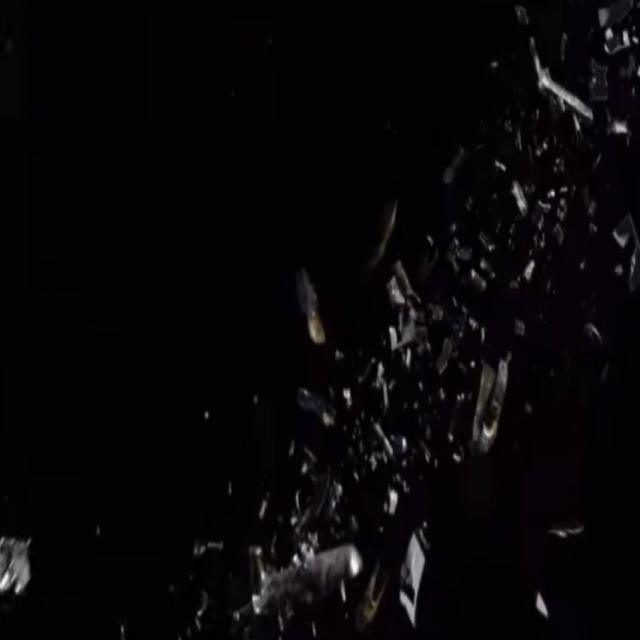large_debris: (246, 528, 364, 636), (510, 4, 598, 142), (379, 258, 447, 373), (281, 254, 334, 357), (466, 342, 509, 461), (397, 506, 435, 636), (610, 192, 640, 291)
